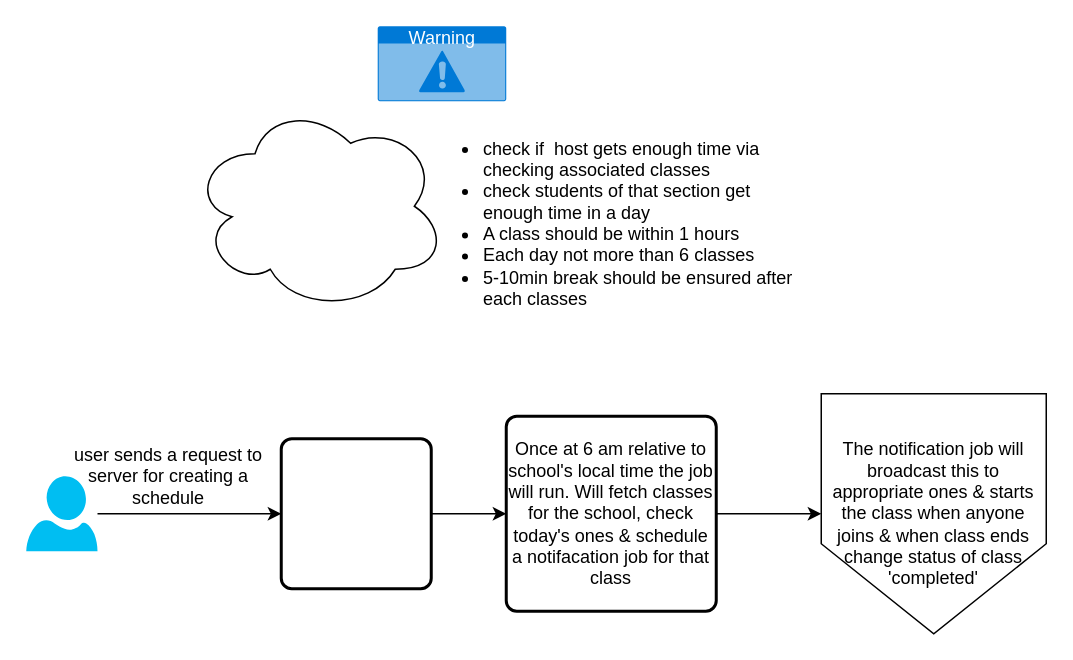
Image size: 1073x660. Some labels were removed from this diagram. Each missing label, with the centre of its shape:
"Create daily (workday) cronjob for the school" goes at pixel 355 513.
"Remember to check the followings before adding the classes to database" goes at pixel 318 205.
